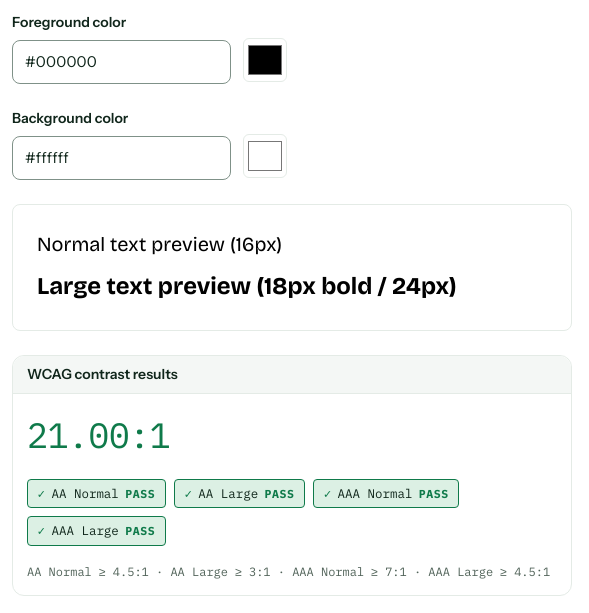
Test: ContrastChecker › shows an error for invalid foreground hex
Type "notacolor" into the field with placeholder "#000000" at (122, 62), box x1=12 y1=40 x2=231 y2=84
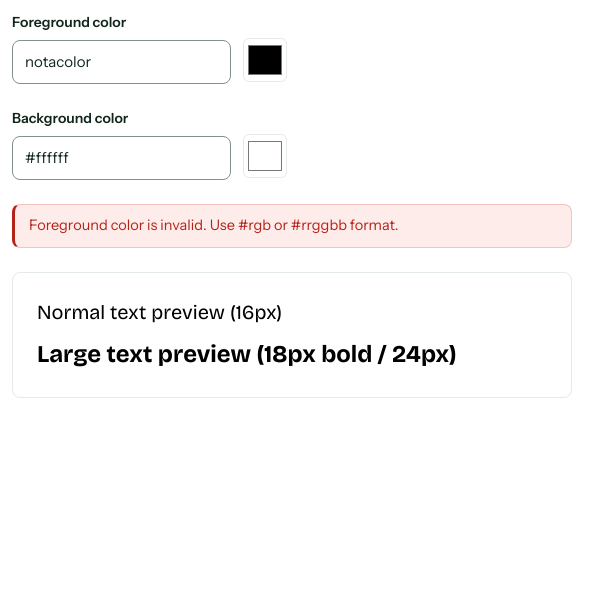
Expected: the text "Foreground color is invalid. Use #rgb or #rrggbb format." is shown, x1=12 y1=204 x2=572 y2=248
